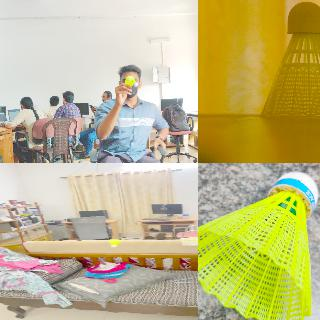shuttlecock: (198, 172, 318, 319), (261, 1, 319, 117), (124, 76, 138, 86), (108, 239, 121, 247)
